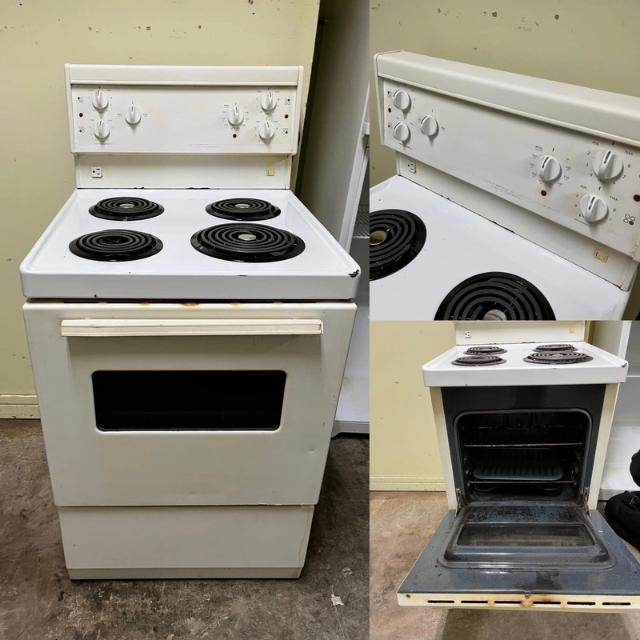Oven: (19, 90, 357, 600), (370, 40, 640, 310), (418, 328, 634, 622)
